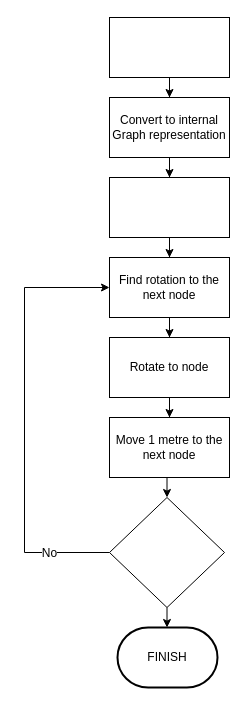
This 247x706 diagram has some shape labels left out. Each missing label, with the centre of its shape:
Are we at the last node (Table): pixel 166 552
Calculate path from start to table number: pixel 169 207
Get Table Data: pixel 169 47
